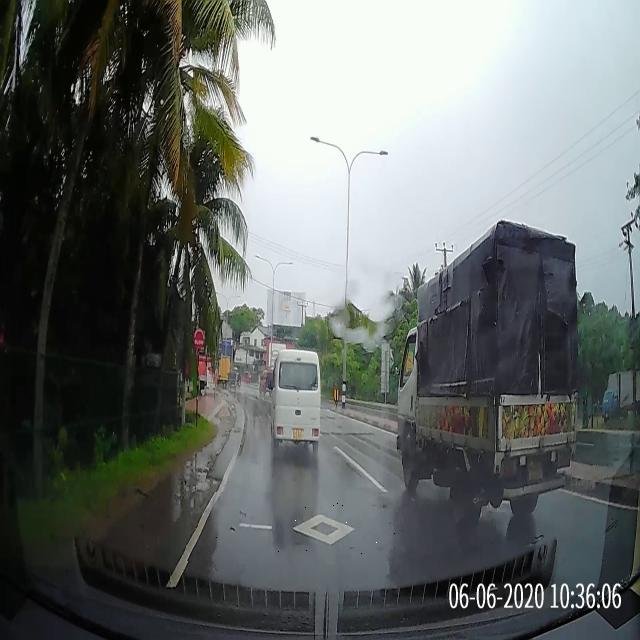diamond: (186, 493, 413, 561)
